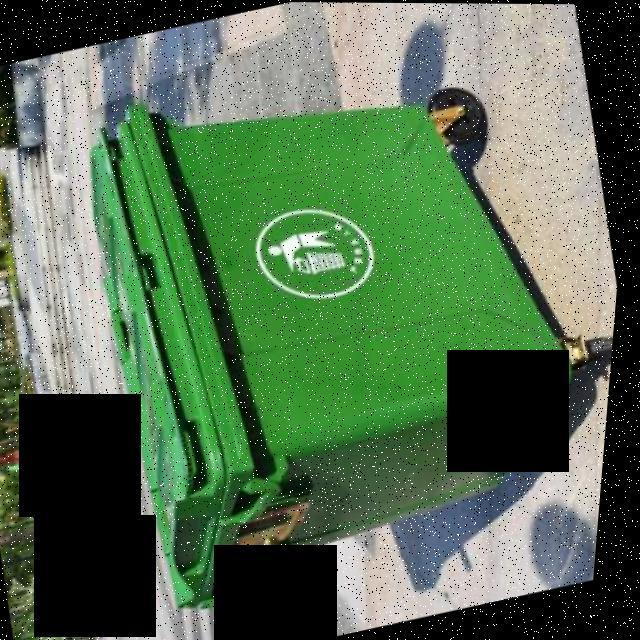bin: (27, 0, 640, 639)
